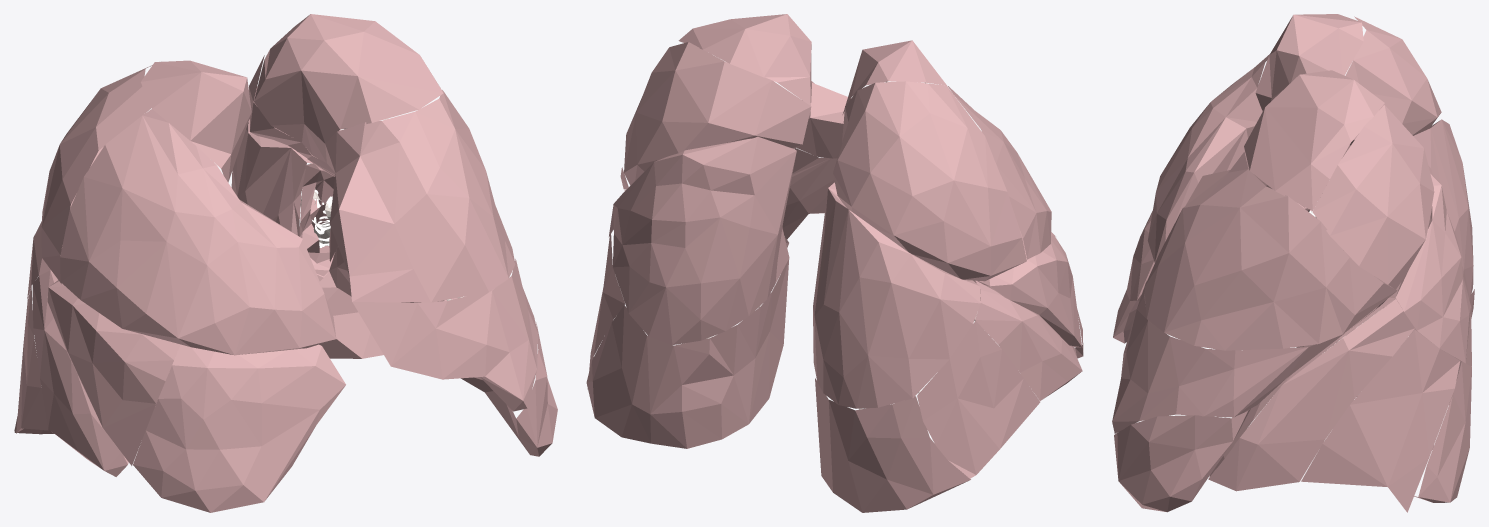
The model's file is 3d-vh-m-lung_0.1.glb.
3 renders of one model, left to right at view 1: azimuth 30°, elevation 25°; view 2: azimuth 150°, elevation 25°; view 3: azimuth 270°, elevation 25°, orthographic. The views are drawn at different scales.
Visible parts, largest first — view 1: VH_M_right_anterior_bronchopulmonary_segment, VH_M_left_anterior_bronchopulmonary_segment, VH_M_right_medial_bronchopulmonary_segment, VH_M_left_apical_bronchopulmonary_segment, VH_M_left_lingula_superior_bronchopulmonary_segment, VH_M_right_lateral_bronchopulmonary_segment, VH_M_right_apical_bronchopulmonary_segment, VH_M_right_posterior_bronchopulmonary_segment, VH_M_right_anterior_basal_bronchopulmonary_segment, VH_M_left_superior_bronchopulmonary_segment, VH_M_left_lingula_inferior_bronchopulmonary_segment, VH_M_left_medial_basal_bronchopulmonary_segment (+4 smaller); view 2: VH_M_left_superior_bronchopulmonary_segment, VH_M_right_posterior_bronchopulmonary_segment, VH_M_right_superior_bronchopulmonary_segment, VH_M_left_posetrior_basal_bronchopulmonary_segment, VH_M_left_posterior_bronchopulmonary_segment, VH_M_right_posterior_basal_bronchopulmonary_segment, VH_M_right_lateral_basal_bronchopulmonary_segment, VH_M_left_apical_bronchopulmonary_segment, VH_M_right_anterior_basal_bronchopulmonary_segment, VH_M_right_lateral_bronchopulmonary_segment, VH_M_right_anterior_bronchopulmonary_segment, VH_M_right_apical_bronchopulmonary_segment (+3 smaller); view 3: VH_M_left_anterior_bronchopulmonary_segment, VH_M_left_lateral_basal_bronchopulmonary_segment, VH_M_left_anterior_basal_bronchopulmonary_segment, VH_M_left_posterior_bronchopulmonary_segment, VH_M_left_lingula_superior_bronchopulmonary_segment, VH_M_left_apical_bronchopulmonary_segment, VH_M_left_lingula_inferior_bronchopulmonary_segment, VH_M_right_anterior_bronchopulmonary_segment, VH_M_left_superior_bronchopulmonary_segment, VH_M_right_apical_bronchopulmonary_segment, VH_M_right_posterior_bronchopulmonary_segment, VH_M_left_posetrior_basal_bronchopulmonary_segment (+3 smaller).
Boxes of the visible parts, <box> form: VH_M_right_anterior_bronchopulmonary_segment: <box>60,109,336,355</box>; VH_M_left_anterior_bronchopulmonary_segment: <box>325,90,515,302</box>; VH_M_right_medial_bronchopulmonary_segment: <box>133,344,345,512</box>; VH_M_left_apical_bronchopulmonary_segment: <box>254,14,443,163</box>; VH_M_left_lingula_superior_bronchopulmonary_segment: <box>352,259,537,411</box>; VH_M_right_lateral_bronchopulmonary_segment: <box>47,280,180,465</box>; VH_M_right_apical_bronchopulmonary_segment: <box>141,60,251,182</box>; VH_M_right_posterior_bronchopulmonary_segment: <box>41,65,152,283</box>; VH_M_right_anterior_basal_bronchopulmonary_segment: <box>32,270,128,476</box>; VH_M_left_superior_bronchopulmonary_segment: <box>231,86,340,236</box>; VH_M_left_lingula_inferior_bronchopulmonary_segment: <box>329,246,557,456</box>; VH_M_left_medial_basal_bronchopulmonary_segment: <box>319,271,493,358</box>; VH_M_left_superior_bronchopulmonary_segment: <box>613,136,796,344</box>; VH_M_right_posterior_bronchopulmonary_segment: <box>833,81,1026,281</box>; VH_M_right_superior_bronchopulmonary_segment: <box>813,182,980,408</box>; VH_M_left_posetrior_basal_bronchopulmonary_segment: <box>586,259,789,448</box>; VH_M_left_posterior_bronchopulmonary_segment: <box>624,42,811,185</box>; VH_M_right_posterior_basal_bronchopulmonary_segment: <box>815,378,970,512</box>; VH_M_right_lateral_basal_bronchopulmonary_segment: <box>917,320,1040,478</box>; VH_M_left_apical_bronchopulmonary_segment: <box>678,14,811,105</box>; VH_M_right_anterior_basal_bronchopulmonary_segment: <box>975,280,1082,400</box>; VH_M_right_lateral_bronchopulmonary_segment: <box>973,222,1081,347</box>; VH_M_right_anterior_bronchopulmonary_segment: <box>947,86,1051,259</box>; VH_M_right_apical_bronchopulmonary_segment: <box>842,40,946,114</box>; VH_M_left_anterior_bronchopulmonary_segment: <box>1144,152,1397,350</box>; VH_M_left_lateral_basal_bronchopulmonary_segment: <box>1301,330,1460,512</box>; VH_M_left_anterior_basal_bronchopulmonary_segment: <box>1208,299,1414,491</box>; VH_M_left_posterior_bronchopulmonary_segment: <box>1312,105,1434,289</box>; VH_M_left_lingula_superior_bronchopulmonary_segment: <box>1112,281,1386,433</box>; VH_M_left_apical_bronchopulmonary_segment: <box>1244,70,1384,210</box>; VH_M_left_lingula_inferior_bronchopulmonary_segment: <box>1114,408,1250,512</box>; VH_M_right_anterior_bronchopulmonary_segment: <box>1147,54,1269,262</box>; VH_M_left_superior_bronchopulmonary_segment: <box>1383,173,1471,366</box>; VH_M_right_apical_bronchopulmonary_segment: <box>1255,14,1363,111</box>; VH_M_right_posterior_bronchopulmonary_segment: <box>1345,16,1441,148</box>; VH_M_left_posetrior_basal_bronchopulmonary_segment: <box>1414,361,1471,502</box>.
Size of the model in its own units: 0.2591 by 0.2322 by 0.1915.
